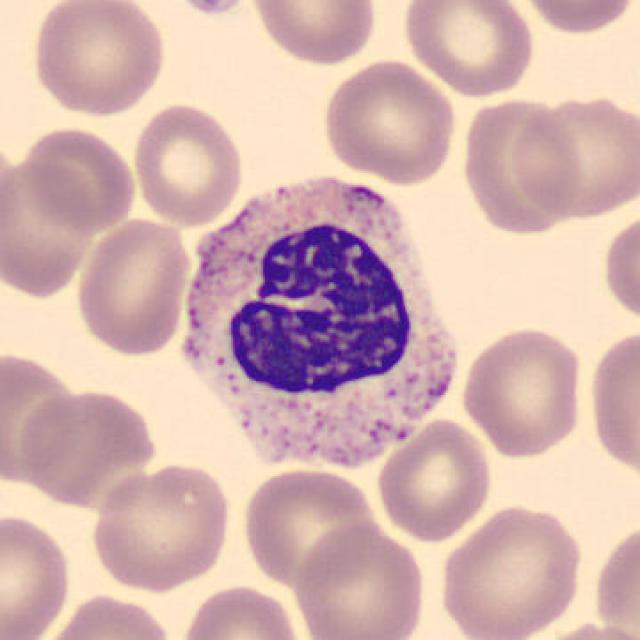Neutrophil: (167, 161, 466, 488)
RBC: (435, 500, 586, 640), (87, 460, 235, 592), (10, 384, 164, 510), (318, 57, 461, 185), (457, 323, 588, 460), (457, 94, 583, 236), (73, 213, 194, 358), (238, 466, 377, 590), (508, 90, 638, 222), (27, 0, 169, 118), (290, 520, 428, 640), (373, 414, 496, 543), (128, 99, 247, 227), (0, 152, 96, 298), (16, 122, 140, 235), (398, 0, 539, 99), (0, 349, 86, 482), (0, 510, 75, 638), (247, 0, 381, 69), (585, 324, 638, 482), (176, 582, 306, 640), (35, 590, 176, 640), (590, 516, 638, 636), (599, 204, 638, 330), (516, 0, 638, 37), (531, 619, 640, 640), (170, 0, 258, 16)
